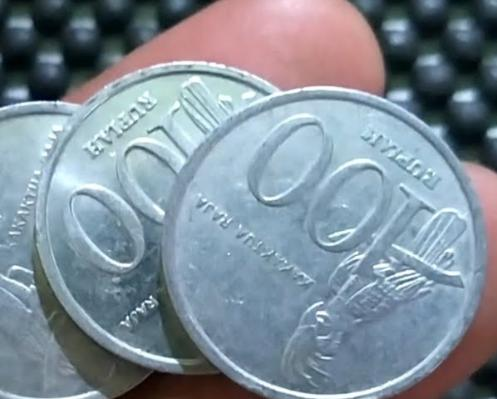coin_100_e1999: (164, 86, 484, 399), (36, 56, 283, 379), (2, 102, 154, 399)
